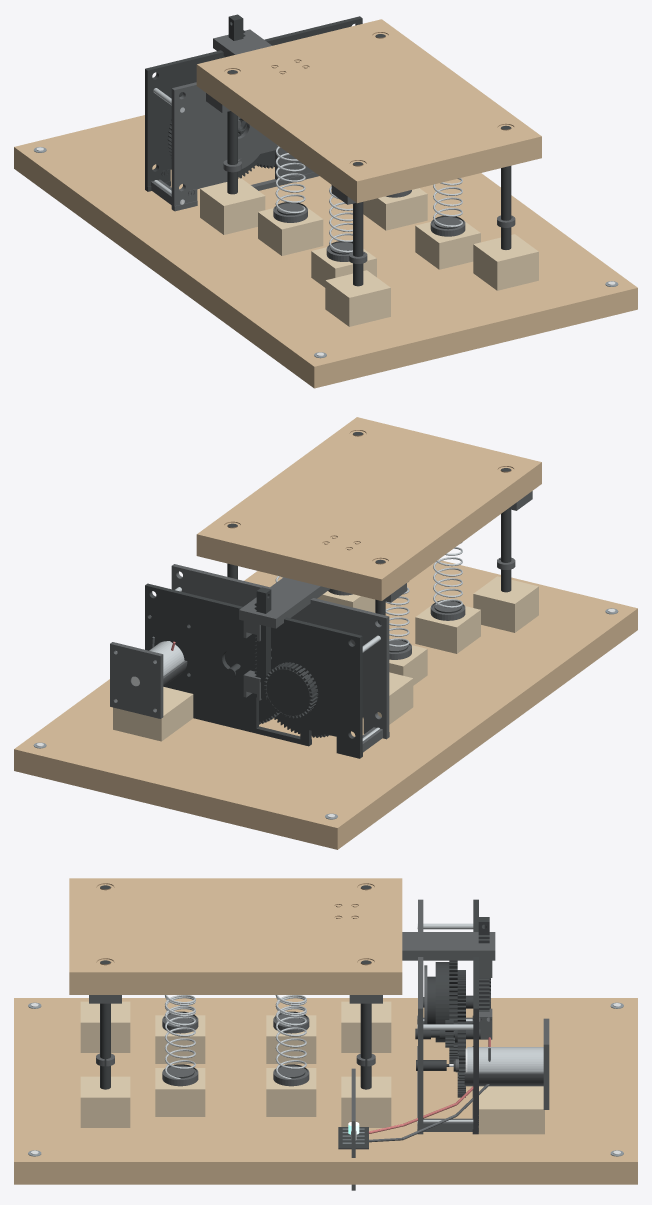
Rendered from step-power-generator-ar-40.glb.
3 views of the same model, one above another, from view 1: azimuth 30°, elevation 25°; view 2: azimuth 150°, elevation 25°; view 3: azimuth 270°, elevation 25° (orthographic). The views are drawn at different scales.
Parts seen in each view (by area): view 1: W1 fixed wooden base 280x450x18, W2 moving wooden pedal 160x240x18, Printed two-hole gearbox cheek, Printed three-hole gearbox cheek, W3 guide timber block 2, W3 guide timber block 4, W3 guide timber block 1, W4 spring riser 1, W4 spring riser 4, W4 spring riser 3, W4 spring riser 2, Printed rack-to-pedal bridge (+8 smaller); view 2: W1 fixed wooden base 280x450x18, W2 moving wooden pedal 160x240x18, Printed three-hole gearbox cheek, Printed two-hole gearbox cheek, Printed motor cradle, W3 guide timber block 2, Motor support timber block 42x20x48, Custom 40T trial rack pinion, W4 spring riser 2, Printed rack-to-pedal bridge, Actual printed rack strip, W3 guide timber block 1 (+5 smaller); view 3: W1 fixed wooden base 280x450x18, W2 moving wooden pedal 160x240x18, Motor support timber block 42x20x48, Printed rack-to-pedal bridge, W3 guide timber block 4, W3 guide timber block 3, W3 guide timber block 1, W3 guide timber block 2, W4 spring riser 3, W4 spring riser 4, Metal DC motor body, Printed motor cradle (+17 smaller).
Part boxes in pixels (x1,y1,x2,y2): W1 fixed wooden base 280x450x18: (14,115,637,388); W2 moving wooden pedal 160x240x18: (196,19,541,203); Printed two-hole gearbox cheek: (171,82,318,211); Printed three-hole gearbox cheek: (145,16,362,191); W3 guide timber block 2: (325,270,390,326); W3 guide timber block 4: (473,234,538,290); W3 guide timber block 1: (200,178,265,234); W4 spring riser 1: (258,202,323,255); W4 spring riser 4: (415,216,480,269); W4 spring riser 3: (363,188,427,230); W4 spring riser 2: (311,247,376,287); Printed rack-to-pedal bridge: (213,29,271,57); W1 fixed wooden base 280x450x18: (14,559,637,849); W2 moving wooden pedal 160x240x18: (196,417,541,600); Printed three-hole gearbox cheek: (145,583,362,758); Printed two-hole gearbox cheek: (171,564,389,739); Printed motor cradle: (110,642,187,718); W3 guide timber block 2: (473,576,538,632); Motor support timber block 42x20x48: (113,687,193,741); Custom 40T trial rack pinion: (264,662,318,718); W4 spring riser 2: (415,599,480,653); Printed rack-to-pedal bridge: (239,577,330,628); Actual printed rack strip: (254,587,271,699); W3 guide timber block 1: (362,672,413,724); W1 fixed wooden base 280x450x18: (14,998,637,1184); W2 moving wooden pedal 160x240x18: (69,878,402,994); Motor support timber block 42x20x48: (478,1086,544,1134); Printed rack-to-pedal bridge: (402,932,495,960); W3 guide timber block 4: (80,1076,130,1127); W3 guide timber block 3: (341,1076,391,1127); W3 guide timber block 1: (341,1001,391,1052); W3 guide timber block 2: (80,1001,130,1052); W4 spring riser 3: (266,1068,316,1116); W4 spring riser 4: (155,1068,205,1116); Metal DC motor body: (467,1047,543,1072); Printed motor cradle: (464,1018,549,1109).
Bounding box in the file's own units: 0.28 × 0.1537 × 0.45.
